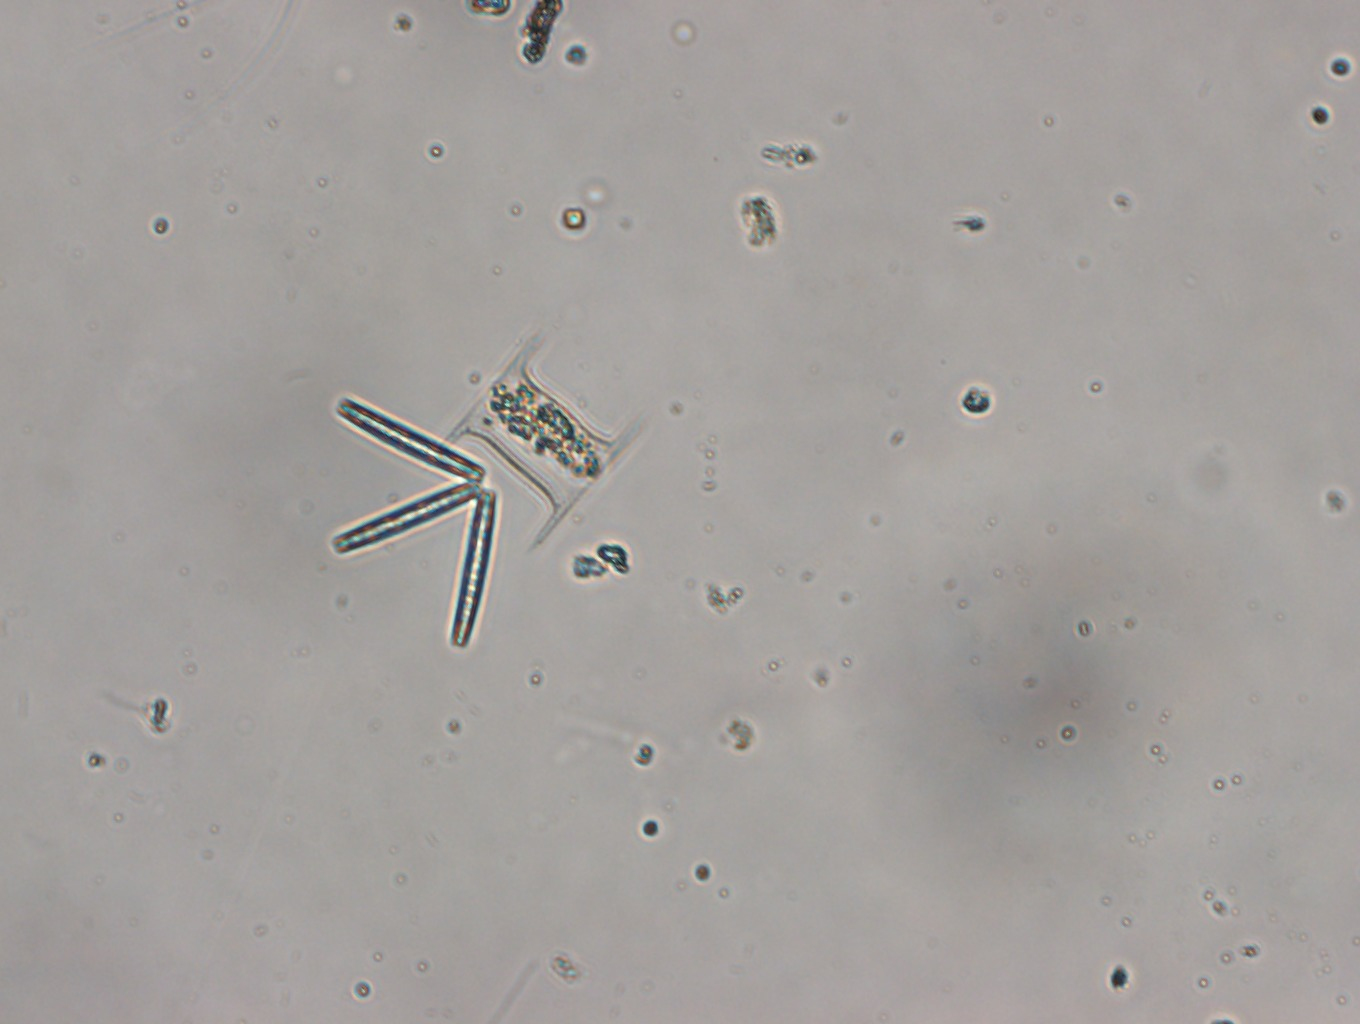eucampia: (440, 331, 652, 550)
thalassionema nitzschioides: (330, 393, 500, 650)
